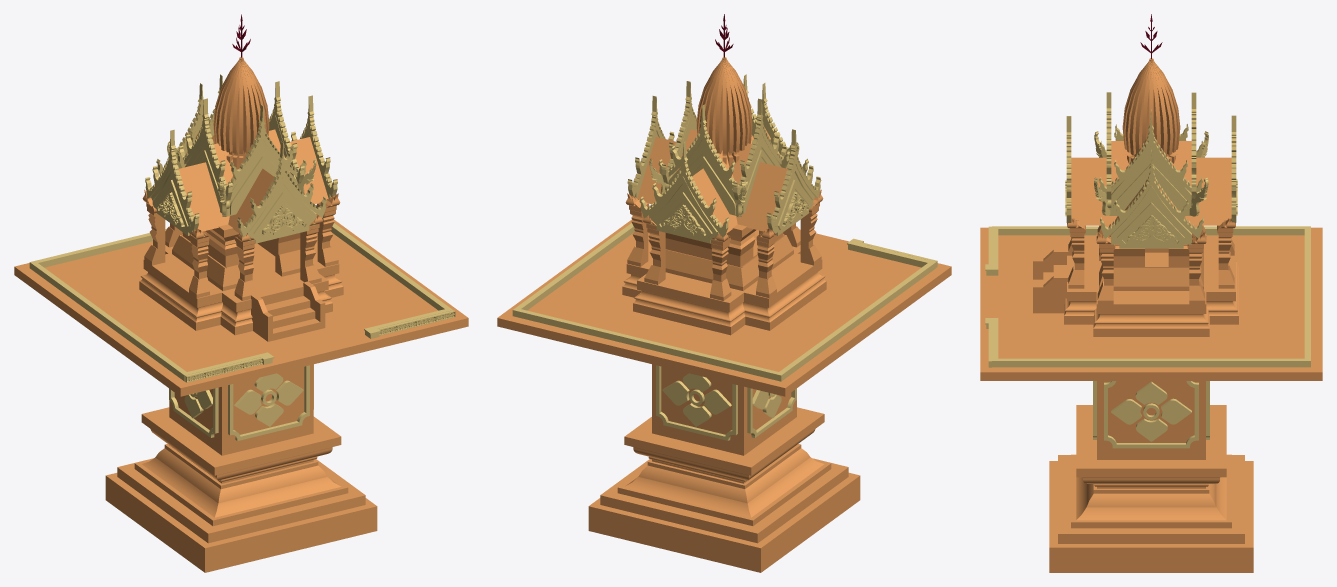
Rendered from thai_phra_phum.glb.
3 renders of one model, left to right at view 1: azimuth 30°, elevation 25°; view 2: azimuth 150°, elevation 25°; view 3: azimuth 270°, elevation 25°, orthographic. The views are drawn at different scales.
Parts seen in each view (by area): view 1: Part2[9]_1, Part4[15]_26, Part5[27]_3, Part60[367]_24, Part36[203]_22, Part72[575]_30, Part62[395]_28, Part39[279]_223, Part38[216]_212, images (7)[716]_261, Part42[284]_210, Part72[593]_36 (+16 smaller); view 2: Part2[9]_1, Part4[15]_26, Part5[27]_3, Part60[367]_24, Part36[203]_22, Part72[590]_34, Part39[279]_223, Part38[256]_218, images (7)[721]_271, Part42[290]_220, images (7)[719]_267, Part72[593]_36 (+15 smaller); view 3: Part2[9]_1, Part4[15]_26, Part5[27]_3, Part60[367]_24, Part39[227]_227, Part36[203]_22, Part72[587]_32, Part38[272]_214, Part42[309]_216, Part62[395]_28, images (7)[723]_275, images (7)[722]_273 (+15 smaller).
Boxes of the visible parts, box(x1,y1,x2,y2) form: Part2[9]_1: box(105, 364, 377, 572); Part4[15]_26: box(14, 219, 468, 396); Part5[27]_3: box(139, 245, 343, 335); Part60[367]_24: box(29, 209, 452, 381); Part36[203]_22: box(172, 224, 300, 290); Part72[575]_30: box(228, 365, 309, 440); Part62[395]_28: box(251, 281, 325, 341); Part39[279]_223: box(178, 137, 328, 231); Part38[216]_212: box(247, 177, 317, 243); images (7)[716]_261: box(237, 141, 326, 237); Part42[284]_210: box(227, 140, 297, 216); Part72[593]_36: box(169, 387, 218, 437); Part2[9]_1: box(588, 364, 860, 572); Part4[15]_26: box(497, 219, 951, 396); Part5[27]_3: box(622, 230, 826, 335); Part60[367]_24: box(512, 223, 936, 381); Part36[203]_22: box(665, 224, 793, 290); Part72[590]_34: box(656, 365, 737, 440); Part39[279]_223: box(637, 137, 787, 231); Part38[256]_218: box(648, 176, 718, 243); images (7)[721]_271: box(639, 141, 729, 237); Part42[290]_220: box(666, 140, 743, 215); images (7)[719]_267: box(766, 129, 821, 231); Part72[593]_36: box(747, 387, 796, 437); Part2[9]_1: box(1049, 381, 1253, 572); Part4[15]_26: box(980, 227, 1322, 380); Part5[27]_3: box(1064, 233, 1238, 336); Part60[367]_24: box(985, 226, 1310, 367); Part39[227]_227: box(1071, 157, 1231, 225); Part36[203]_22: box(1099, 224, 1203, 290); Part72[587]_32: box(1104, 381, 1198, 448); Part38[272]_214: box(1111, 186, 1191, 248); Part42[309]_216: box(1108, 146, 1191, 215); Part62[395]_28: box(1033, 249, 1068, 313); images (7)[723]_275: box(1100, 150, 1203, 238); images (7)[722]_273: box(1099, 109, 1202, 193).
Size of the model in its own units: 0.0165 by 0.0274 by 0.0165.
